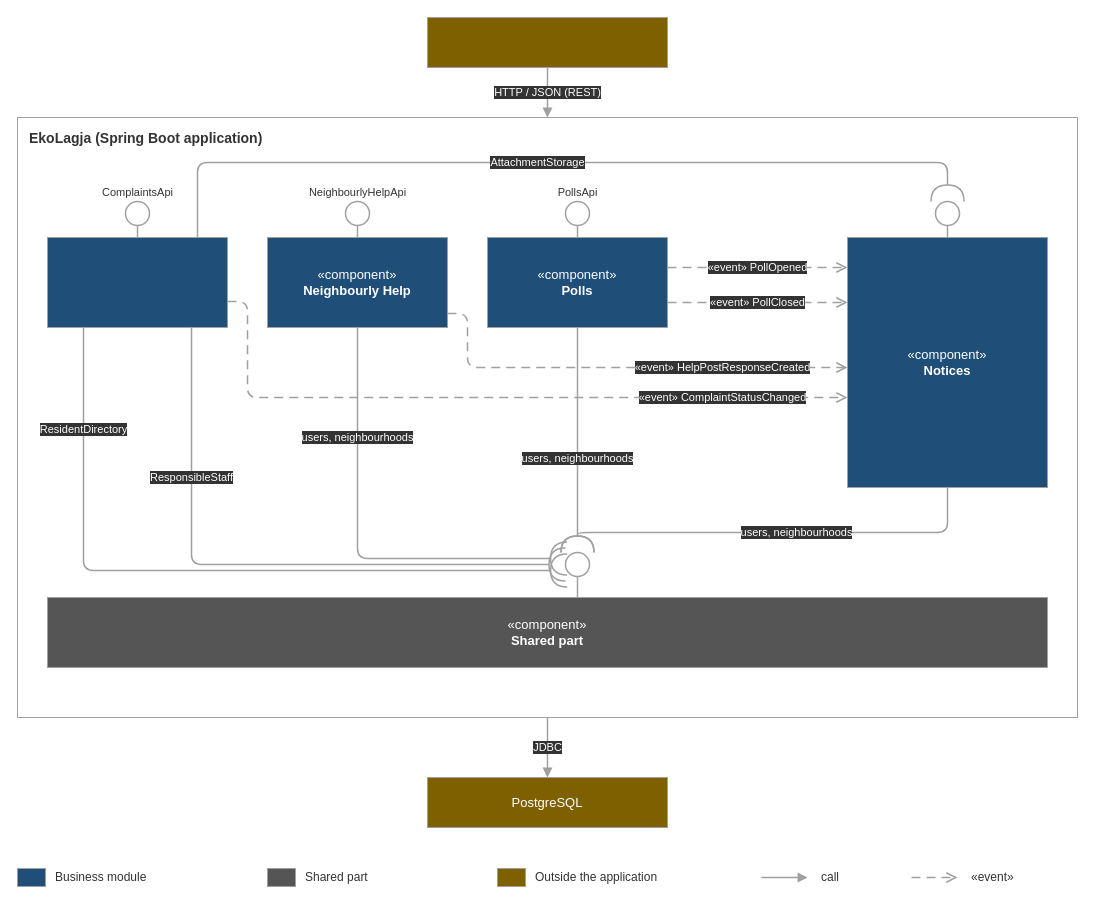
This 1095x908 diagram has some shape labels left out. Here are the shapes that lost their labels. From the top down, the centre of each, then its label:
point 547,42: Frontend (React)
point 947,213: NoticesApi
point 137,282: «component» Complaints
point 577,564: SharedPartApi
